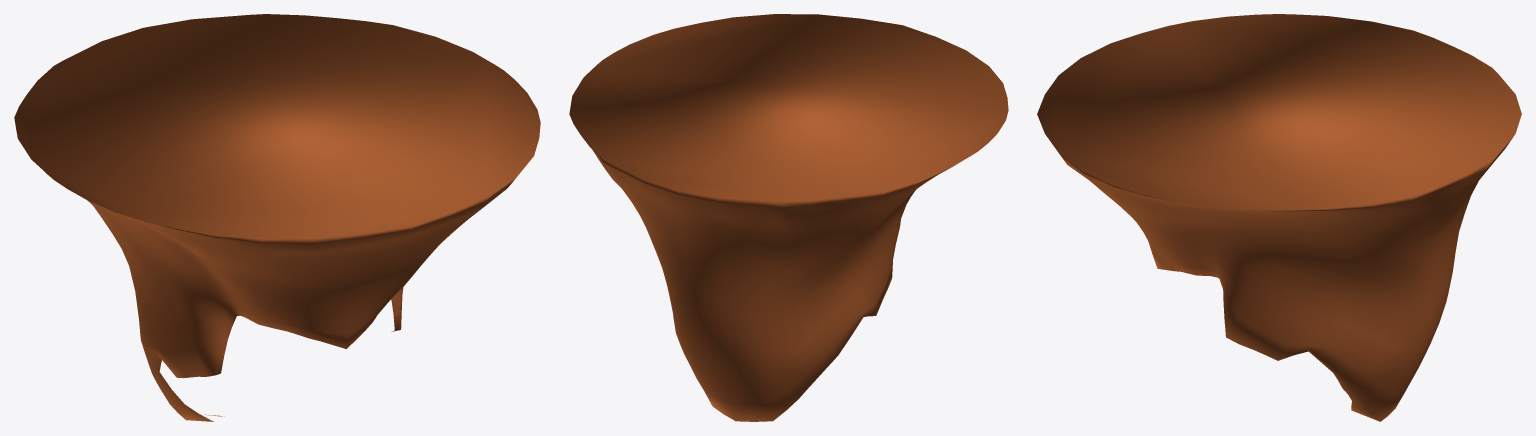
The picture shows the model from 3 angles, left to right: view 1: azimuth 30°, elevation 25°; view 2: azimuth 150°, elevation 25°; view 3: azimuth 270°, elevation 25°; orthographic projection. The views are drawn at different scales.
Parts seen in each view (by area): view 1: Wolf3D_Hair.065; view 2: Wolf3D_Hair.065; view 3: Wolf3D_Hair.065.
Part boxes in pixels (x1,y1,x2,y2): Wolf3D_Hair.065: (14,14,540,421); Wolf3D_Hair.065: (569,14,1008,421); Wolf3D_Hair.065: (1037,14,1521,421).
Size of the model in its own units: 0.3466 by 0.2442 by 0.3609.
1 material, 1 textured.
